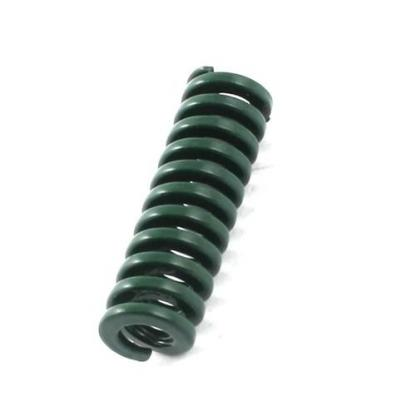FOD: (95, 60, 274, 366)
